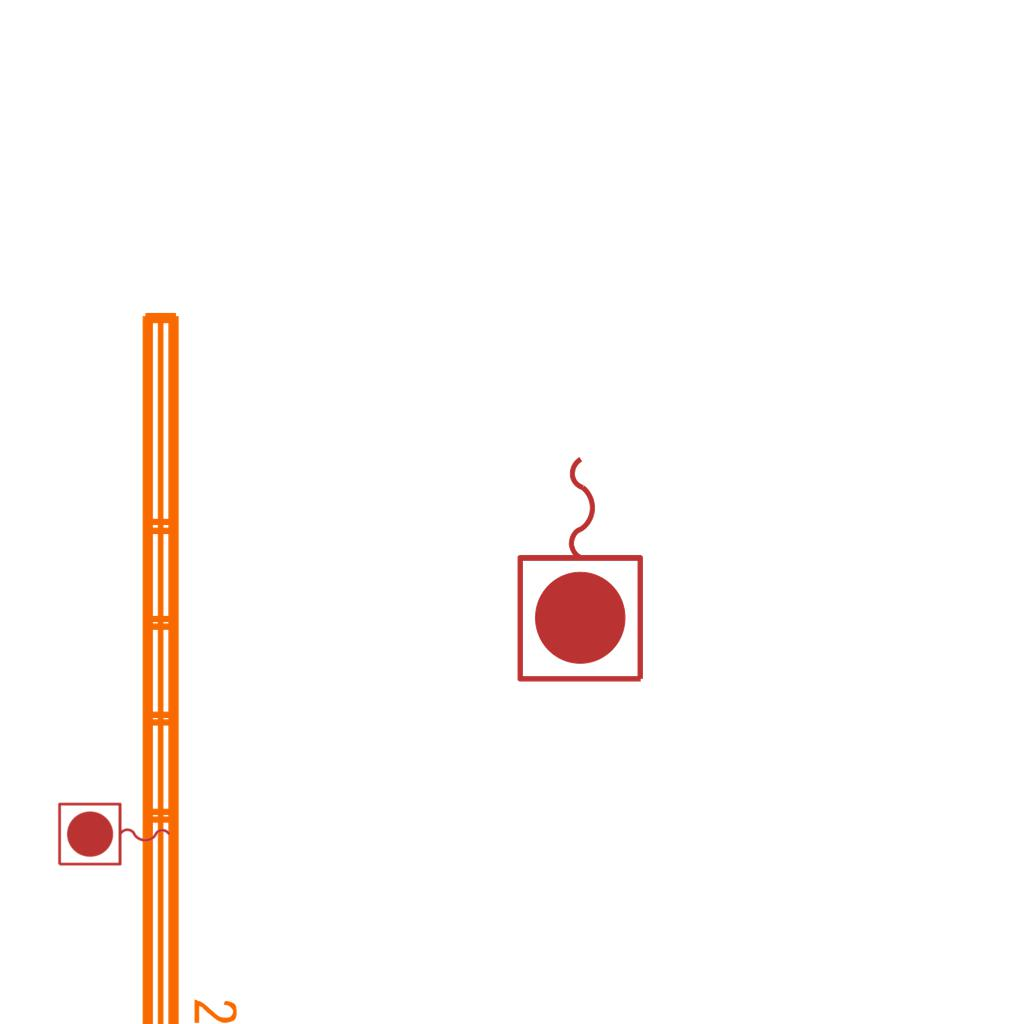Ambulanz_Pendelleuchte_LED: (130, 302, 242, 1024)
Zugtaster: (510, 446, 654, 690), (54, 799, 176, 871)
